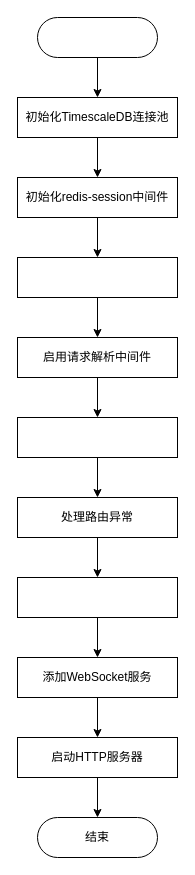
The diagram is 195 pixels wide and 875 high, and some of its shapes have lost their labels. The shapes that lost their labels are listed below. From the top down, each one's centre as x and y in pixels, then its label:
At [97,37]: "开始".
At [97,277]: "自定义日志中间件".
At [97,437]: "设置HTTP路由".
At [97,597]: "创建HTTP服务器".
